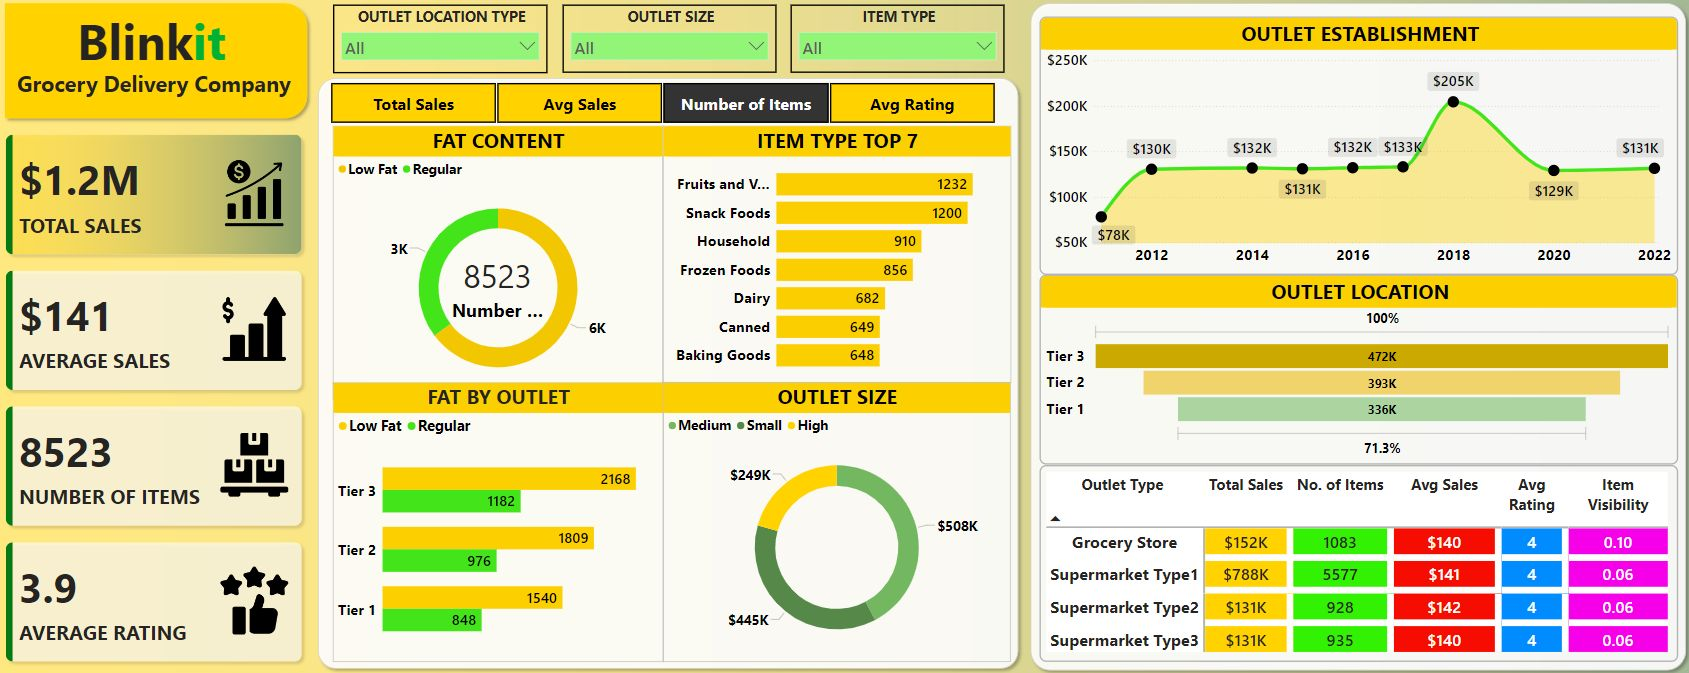

The page's visual inventory and layout, read from the dashboard file:
{"tool":"powerbi","page":{"name":"Page 1","canvas":[2500,1000],"ordinal":0},"visuals":[{"type":"shape","box":[6.6,0,463.9,187.8],"z":0},{"type":"textbox","box":[28.7,8.8,406.5,117.1],"z":1000},{"type":"textbox","box":[28.7,99.4,426.4,57.4],"z":2000},{"type":"cardVisual","fields":{"Data":["BlinkIT Grocery Data.Total Sales","BlinkIT Grocery Data.Avg Sales","BlinkIT Grocery Data.Number of Items","BlinkIT Grocery Data.Avg Rating"]},"box":[0,186.3,470.2,813.3],"z":3000},{"type":"shape","box":[469.1,111,1049.1,887.7],"z":4000},{"type":"donutChart","title":"FAT CONTENT","fields":{"Y":["BlinkIT Grocery Data.Total Sales","BlinkIT Grocery Data.Avg Sales","BlinkIT Grocery Data.Number of Items","BlinkIT Grocery Data.Avg Rating"],"Category":["BlinkIT Grocery Data.Item Fat Content"]},"box":[499.3,190,486,402.1],"z":5000},{"type":"slicer","title":"FAT CONTENT","fields":{"Values":["Metric .Metric "]},"box":[470.6,119.3,1027.3,72.9],"z":6000},{"type":"card","fields":{"Values":["BlinkIT Grocery Data.Total Sales"]},"box":[667.2,371.1,148,110.5],"z":7000},{"type":"clusteredBarChart","title":"FAT BY OUTLET","fields":{"Y":["BlinkIT Grocery Data.Total Sales"],"Category":["BlinkIT Grocery Data.Outlet Location Type"],"Series":["BlinkIT Grocery Data.Item Fat Content"]},"box":[499.3,567.4,486.7,411.1],"z":8000},{"type":"barChart","title":"ITEM TYPE TOP 7","fields":{"Y":["BlinkIT Grocery Data.Total Sales","BlinkIT Grocery Data.Avg Sales","BlinkIT Grocery Data.Number of Items","BlinkIT Grocery Data.Avg Rating"],"Category":["BlinkIT Grocery Data.Item Type"]},"box":[985.3,190,512.5,377.8],"z":9000},{"type":"shape","box":[1517.7,0,983.1,1000.8],"z":10000},{"type":"lineChart","title":"OUTLET ESTABLISHMENT","fields":{"Category":["BlinkIT Grocery Data.Outlet Establishment Year"],"Y":["BlinkIT Grocery Data.Total Sales"]},"box":[1540.9,27.7,940.7,380.8],"z":11000},{"type":"donutChart","title":"OUTLET SIZE","fields":{"Y":["BlinkIT Grocery Data.Total Sales"],"Category":["BlinkIT Grocery Data.Outlet Size"]},"box":[986.1,567.4,511.9,411.1],"z":12000},{"type":"funnel","title":"OUTLET LOCATION","fields":{"Y":["Sum(BlinkIT Grocery Data.Sales)"],"Category":["BlinkIT Grocery Data.Outlet Location Type"]},"box":[1540.9,408.5,940.7,279.9],"z":13000},{"type":"pivotTable","fields":{"Rows":["BlinkIT Grocery Data.Outlet Type"],"Values":["BlinkIT Grocery Data.Total Sales","BlinkIT Grocery Data.Number of Items","BlinkIT Grocery Data.Avg Sales","BlinkIT Grocery Data.Avg Rating","Avg(BlinkIT Grocery Data.Item Visibility)"]},"box":[1540.9,688.5,940.7,290],"z":14000},{"type":"slicer","title":"OUTLET LOCATION TYPE","fields":{"Values":["BlinkIT Grocery Data.Outlet Location Type"]},"box":[499.3,11,315.9,101.6],"z":15000},{"type":"slicer","title":"OUTLET SIZE","fields":{"Values":["BlinkIT Grocery Data.Outlet Size"]},"box":[837.3,10.1,315.2,100.9],"z":16000},{"type":"slicer","title":"ITEM TYPE","fields":{"Values":["BlinkIT Grocery Data.Item Type"]},"box":[1172.7,10.1,315.2,100.9],"z":17000}]}

Visuals, with their boxes in screenshot pixels (x1, y1, x2, y2), scaled from the page's 2500x1000 canvas onto the 1689x673 screenshot:
shape: detection(4, 0, 318, 126)
textbox: detection(19, 6, 294, 85)
textbox: detection(19, 67, 307, 106)
cardVisual - BlinkIT Grocery Data.Total Sales x BlinkIT Grocery Data.Avg Sales: detection(0, 125, 318, 672)
shape: detection(317, 75, 1026, 672)
"FAT CONTENT" donutChart: detection(337, 128, 666, 398)
"FAT CONTENT" slicer: detection(318, 80, 1012, 129)
card - BlinkIT Grocery Data.Total Sales: detection(451, 250, 551, 324)
"FAT BY OUTLET" clusteredBarChart: detection(337, 382, 666, 659)
"ITEM TYPE TOP 7" barChart: detection(666, 128, 1012, 382)
shape: detection(1025, 0, 1688, 672)
"OUTLET ESTABLISHMENT" lineChart: detection(1041, 19, 1677, 275)
"OUTLET SIZE" donutChart: detection(666, 382, 1012, 659)
"OUTLET LOCATION" funnel: detection(1041, 275, 1677, 463)
pivotTable - BlinkIT Grocery Data.Outlet Type x BlinkIT Grocery Data.Total Sales: detection(1041, 463, 1677, 659)
"OUTLET LOCATION TYPE" slicer: detection(337, 7, 551, 76)
"OUTLET SIZE" slicer: detection(566, 7, 779, 75)
"ITEM TYPE" slicer: detection(792, 7, 1005, 75)
